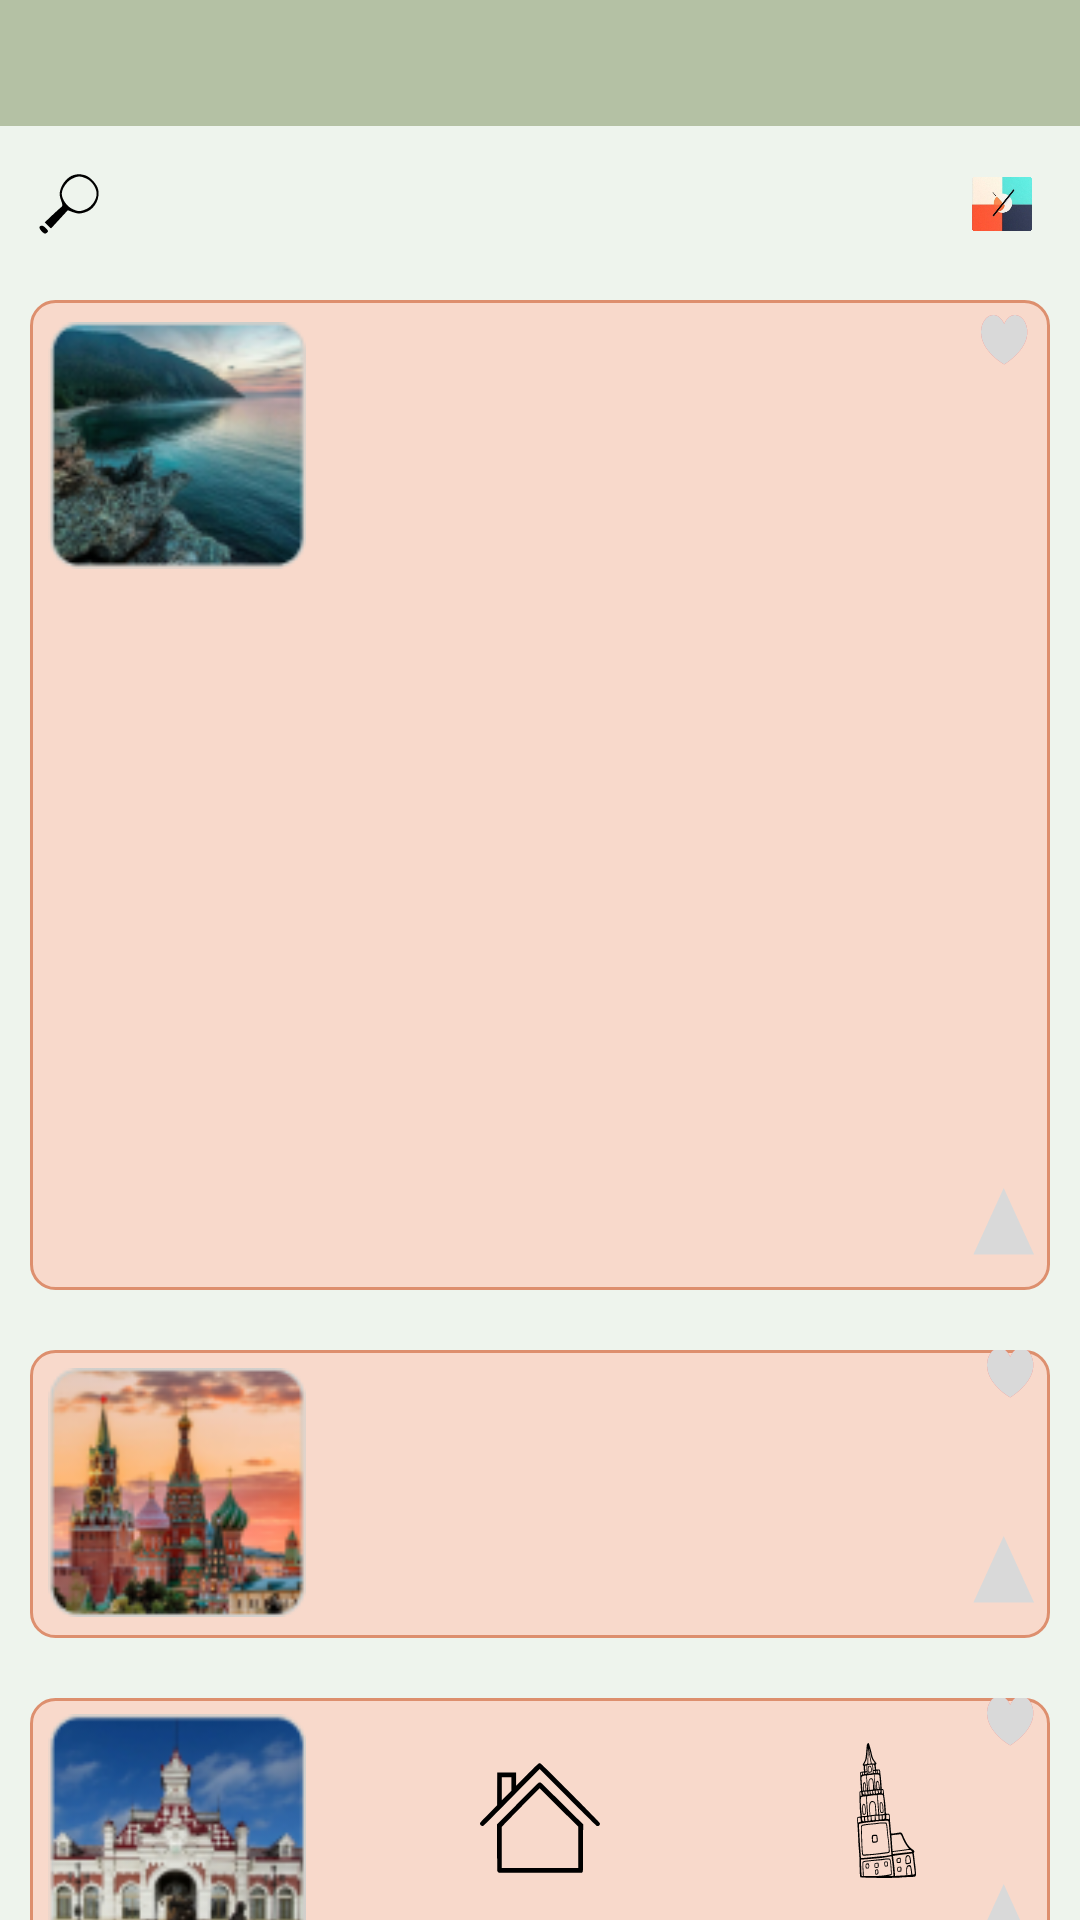

Point at icon controls on the screen. Image size 1080 × 1920, points as (x,y).
kremlin: (177,1492)
иконка дома: (540,1818)
иконка приложения: (1002,204)
невьянская башня: (886,1810)
Озеро Байкал: (178,444)
поиск: (69,204)
